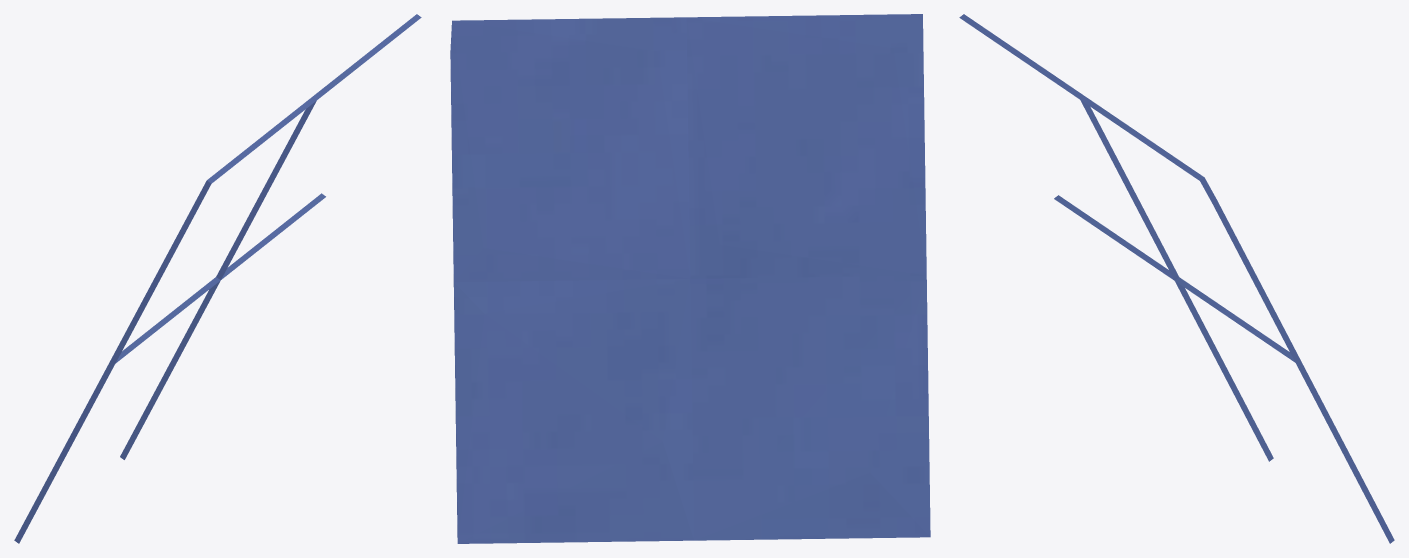
3 renders of one model, left to right at view 1: azimuth 30°, elevation 25°; view 2: azimuth 150°, elevation 25°; view 3: azimuth 270°, elevation 25°, orthographic. The views are drawn at different scales.
Size of the model in its own units: 19650 by 17712 by 16872.
1 material, 1 textured.
